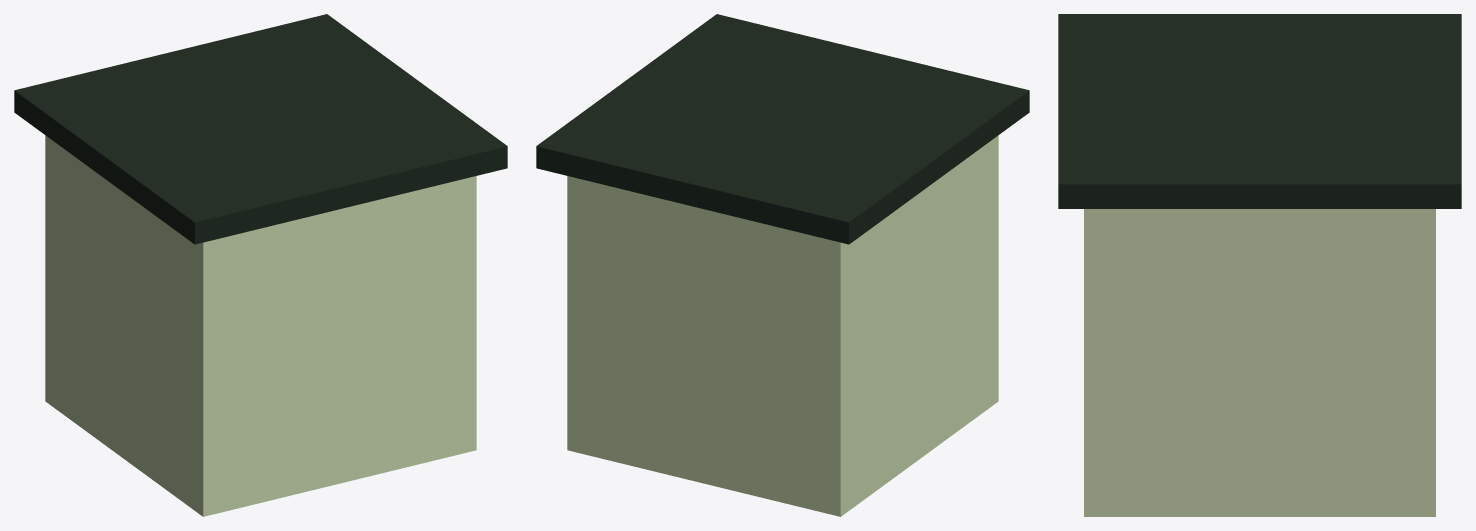
File: RoofCenter_3x3x3.fbx
The picture shows the model from 3 angles, left to right: view 1: azimuth 30°, elevation 25°; view 2: azimuth 150°, elevation 25°; view 3: azimuth 270°, elevation 25°; orthographic projection. The views are drawn at different scales.
Visible parts, largest first — view 1: RoofCenter_3x3x3; view 2: RoofCenter_3x3x3; view 3: RoofCenter_3x3x3.
Boxes of the visible parts, x1,y1,x2,y2 form: RoofCenter_3x3x3: (14,14,507,516); RoofCenter_3x3x3: (536,14,1029,516); RoofCenter_3x3x3: (1058,14,1461,516).
Bounding box in the file's own units: 343 × 323 × 343.
